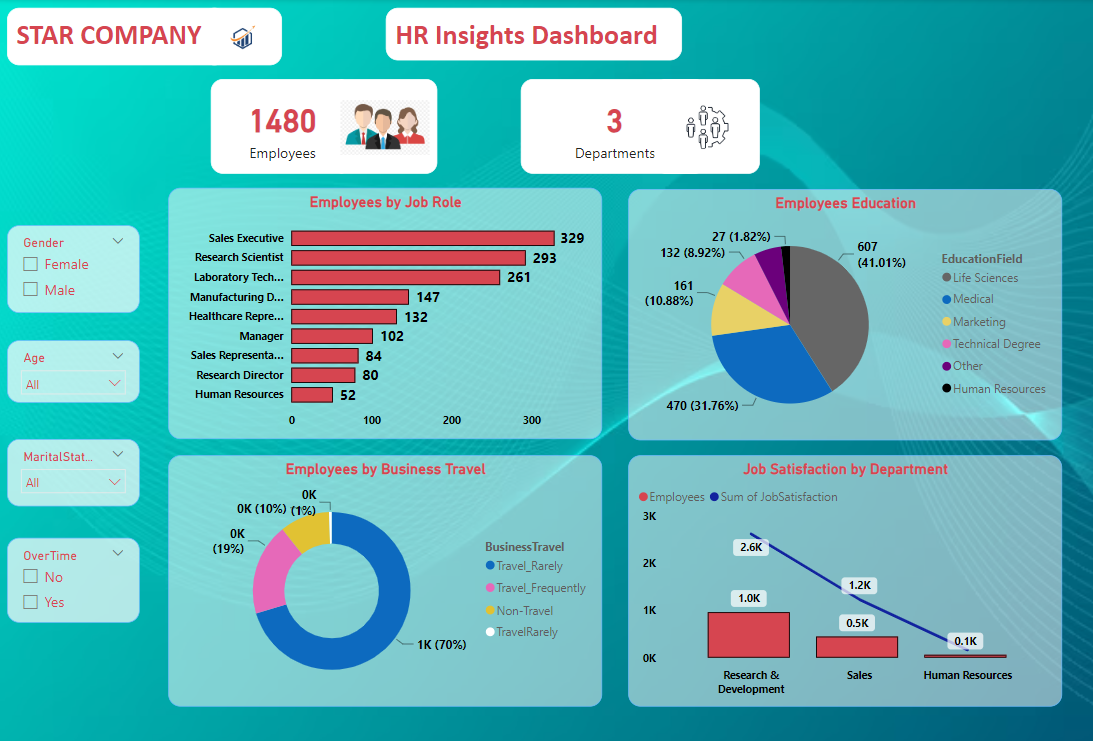

The page's visual inventory and layout, read from the dashboard file:
{"tool":"powerbi","page":{"name":"Employee Details","canvas":[1250,850],"ordinal":0},"visuals":[{"type":"textbox","box":[443.6,9.4,337.7,60.3],"z":0},{"type":"image","box":[233.6,10,91.2,65.5],"z":1000},{"type":"textbox","box":[11.4,10,250.7,65.5],"z":2000},{"type":"card","fields":{"Values":["HR_Analytics.Total Employees"]},"box":[243.6,91.2,160.9,108.2],"z":3000},{"type":"image","box":[381.7,91.2,119.6,108.2],"z":4000},{"type":"slicer","fields":{"Values":["HR_Analytics.Gender"]},"box":[11.4,257.8,151,99.7],"z":5000},{"type":"clusteredBarChart","title":"Employees by Job Role","fields":{"Category":["HR_Analytics.JobRole"],"Y":["HR_Analytics.Employees"]},"box":[195.6,214.4,494,286.8],"z":6000},{"type":"lineClusteredColumnComboChart","title":" Job Satisfaction by Department","fields":{"Y2":["Sum(HR_Analytics.JobSatisfaction)"],"Y":["HR_Analytics.Employees"],"Category":["HR_Analytics.Department"]},"box":[719.3,519.9,494.2,286],"z":7000},{"type":"slicer","fields":{"Values":["HR_Analytics.Age"]},"box":[11.4,388.8,151,71.2],"z":8000},{"type":"donutChart","title":"Employees by Business Travel","fields":{"Category":["HR_Analytics.BusinessTravel"],"Y":["HR_Analytics.Employees"]},"box":[195.1,519.9,494,286],"z":9000},{"type":"pieChart","title":"Employees Education","fields":{"Y":["HR_Analytics.Employees"],"Category":["HR_Analytics.EducationField"]},"box":[719.3,216.5,494.2,286.3],"z":10000},{"type":"slicer","fields":{"Values":["HR_Analytics.MaritalStatus"]},"box":[11.4,501.3,151,76.9],"z":11000},{"type":"slicer","fields":{"Values":["HR_Analytics.OverTime"]},"box":[11.4,613.9,151,96.9],"z":12000},{"type":"card","fields":{"Values":["HR_Analytics.Departments"]},"box":[596.8,91.2,212.2,108.2],"z":13000},{"type":"image","box":[749.2,91.2,119.6,108.2],"z":14000}]}

Visuals, with their boxes in screenshot pixels (x1, y1, x2, y2), scaled from the page's 1250x850 canvas onto the 1093x741 screenshot:
textbox: [left=388, top=8, right=683, bottom=61]
image: [left=204, top=9, right=284, bottom=66]
textbox: [left=10, top=9, right=229, bottom=66]
card - HR_Analytics.Total Employees: [left=213, top=80, right=354, bottom=174]
image: [left=334, top=80, right=438, bottom=174]
slicer - HR_Analytics.Gender: [left=10, top=225, right=142, bottom=312]
"Employees by Job Role" clusteredBarChart: [left=171, top=187, right=603, bottom=437]
" Job Satisfaction by Department" lineClusteredColumnComboChart: [left=629, top=453, right=1061, bottom=703]
slicer - HR_Analytics.Age: [left=10, top=339, right=142, bottom=401]
"Employees by Business Travel" donutChart: [left=171, top=453, right=603, bottom=703]
"Employees Education" pieChart: [left=629, top=189, right=1061, bottom=438]
slicer - HR_Analytics.MaritalStatus: [left=10, top=437, right=142, bottom=504]
slicer - HR_Analytics.OverTime: [left=10, top=535, right=142, bottom=620]
card - HR_Analytics.Departments: [left=522, top=80, right=707, bottom=174]
image: [left=655, top=80, right=760, bottom=174]
